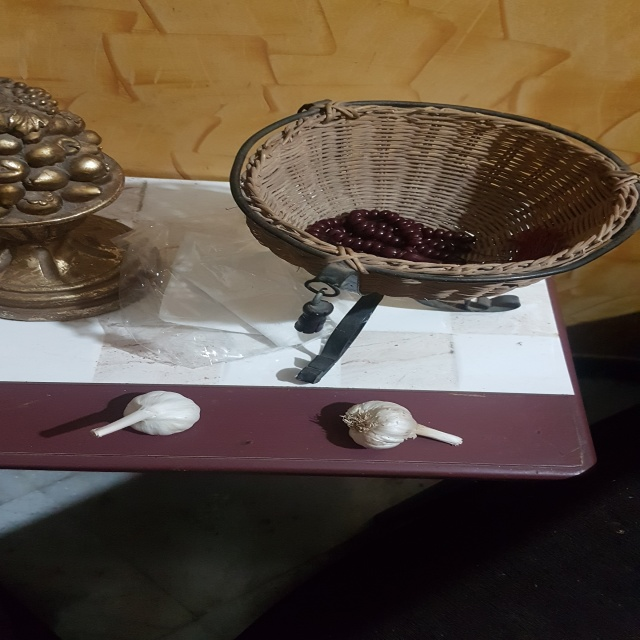garlic: (336, 395, 463, 464), (93, 383, 205, 457)
